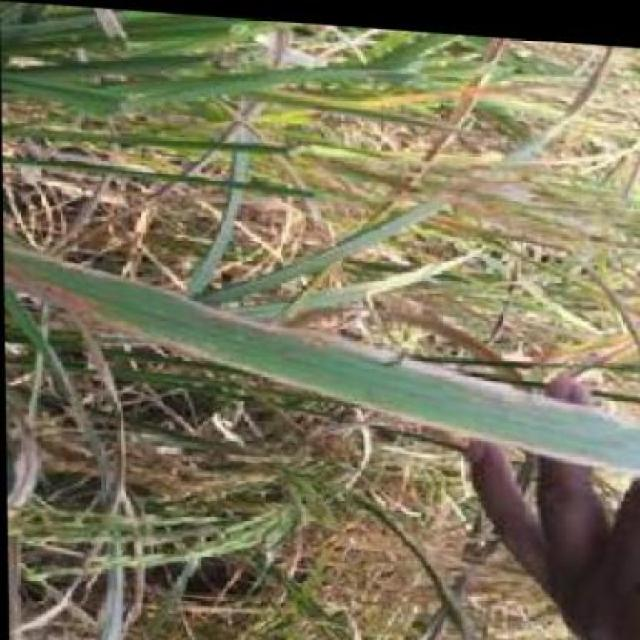Brown_Spot: (118, 282, 639, 423)
